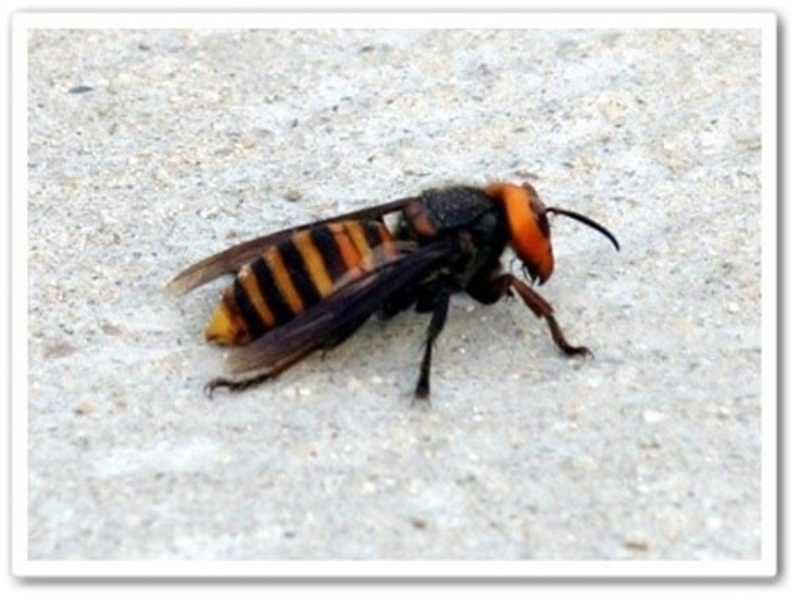asian_giant_hornet: (203, 177, 597, 400)
